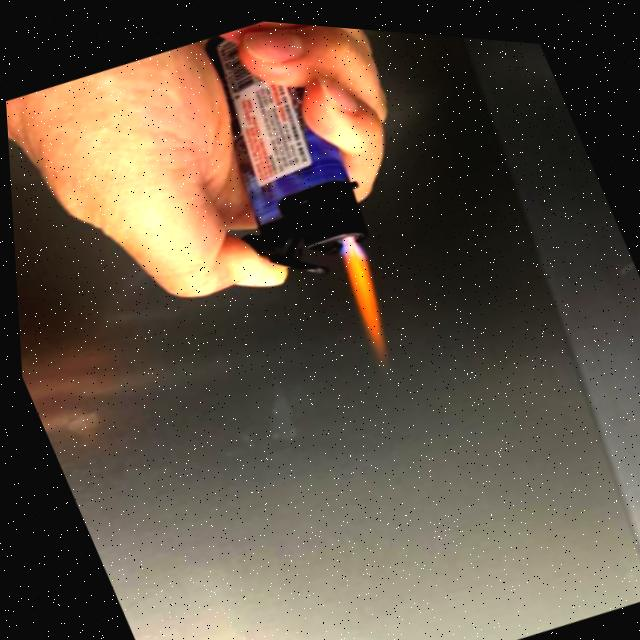Fire: (327, 231, 402, 356)
